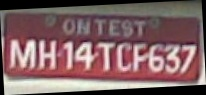character: (9, 37, 36, 69), (38, 38, 57, 70), (73, 40, 93, 70), (96, 40, 116, 70), (164, 43, 181, 73), (180, 43, 197, 73), (116, 41, 132, 72), (148, 42, 164, 72), (132, 42, 146, 72), (62, 39, 73, 70)
